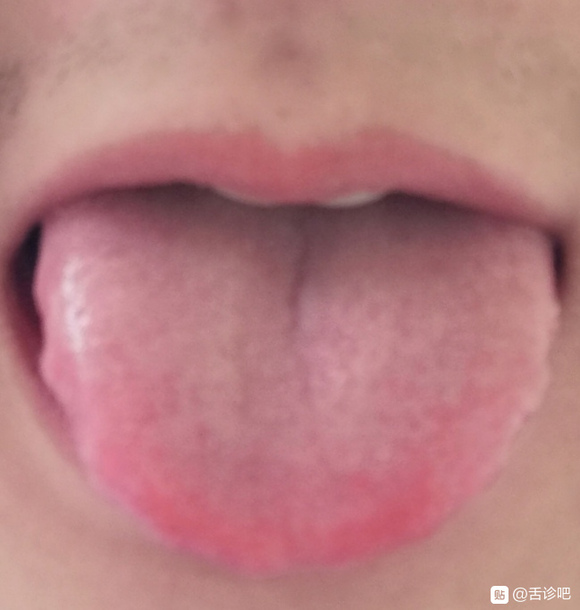baitaishe: (33, 190, 560, 571)
chihenshe: (34, 289, 87, 476)
hongshe: (33, 190, 560, 571)
liewenshe: (285, 225, 316, 334)
